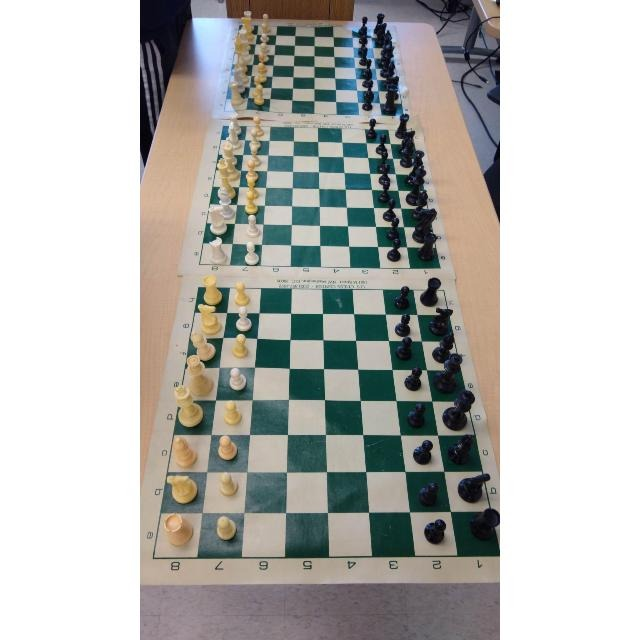black-bishop: (446, 433, 476, 467), (430, 332, 455, 364), (409, 189, 430, 221), (399, 137, 415, 169), (382, 59, 397, 88), (380, 29, 394, 57)
black-king: (442, 389, 476, 433), (404, 164, 428, 206), (378, 42, 393, 78)
black-knight: (456, 471, 491, 504), (411, 206, 438, 244), (427, 306, 453, 338), (397, 129, 415, 155), (384, 76, 400, 101), (374, 22, 390, 46)
black-pawn: (423, 516, 449, 546), (416, 480, 442, 509), (405, 402, 429, 430), (410, 439, 435, 465), (403, 365, 425, 393), (394, 335, 416, 361), (392, 285, 412, 311), (393, 312, 412, 337), (384, 238, 403, 263), (380, 198, 399, 222), (385, 216, 401, 241), (377, 179, 393, 204), (377, 164, 392, 186), (376, 149, 390, 172), (374, 132, 388, 155), (364, 117, 378, 139), (360, 90, 373, 111), (361, 68, 375, 87), (363, 78, 374, 101), (357, 17, 369, 37), (358, 45, 369, 66), (362, 58, 373, 78), (358, 34, 368, 56), (358, 25, 368, 44)
black-queen: (430, 352, 463, 394), (403, 149, 426, 187), (377, 35, 392, 66)
black-rook: (468, 507, 500, 542), (418, 276, 442, 307), (417, 232, 437, 261), (382, 83, 398, 115), (394, 112, 410, 139), (373, 12, 384, 35)
white-bishop: (188, 329, 218, 363), (170, 435, 199, 469), (216, 186, 236, 220), (221, 137, 238, 167), (239, 23, 251, 53), (236, 56, 249, 83)
white-king: (173, 385, 205, 427), (214, 157, 235, 201), (232, 33, 248, 73)
white-knight: (164, 472, 200, 505), (195, 303, 224, 337), (206, 204, 230, 235), (224, 122, 242, 150), (230, 66, 246, 93), (239, 17, 254, 41)
white-pawn: (214, 515, 237, 541), (218, 434, 238, 462), (218, 471, 239, 497), (223, 398, 243, 425), (235, 305, 253, 333), (228, 366, 247, 391), (232, 333, 250, 359), (234, 281, 250, 307), (244, 241, 259, 267), (247, 212, 261, 238), (244, 189, 258, 214), (251, 115, 265, 137), (245, 160, 258, 182), (248, 129, 261, 151), (247, 178, 259, 200), (253, 84, 265, 105), (249, 146, 260, 168), (256, 63, 268, 83), (260, 13, 272, 33), (252, 76, 263, 96), (256, 53, 267, 73), (259, 33, 269, 53), (259, 42, 269, 61), (260, 23, 270, 42)
white-queen: (185, 354, 214, 398), (219, 142, 240, 182), (238, 29, 252, 63)
white-rook: (161, 512, 194, 548), (200, 273, 223, 306), (208, 235, 228, 266), (226, 80, 245, 107), (227, 111, 242, 137), (241, 9, 254, 32)
